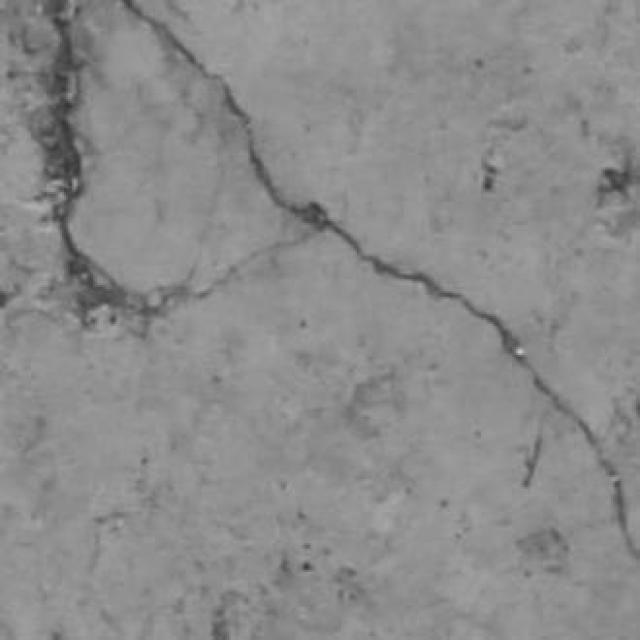crack: (121, 0, 639, 562), (30, 0, 145, 325), (522, 431, 543, 488)
